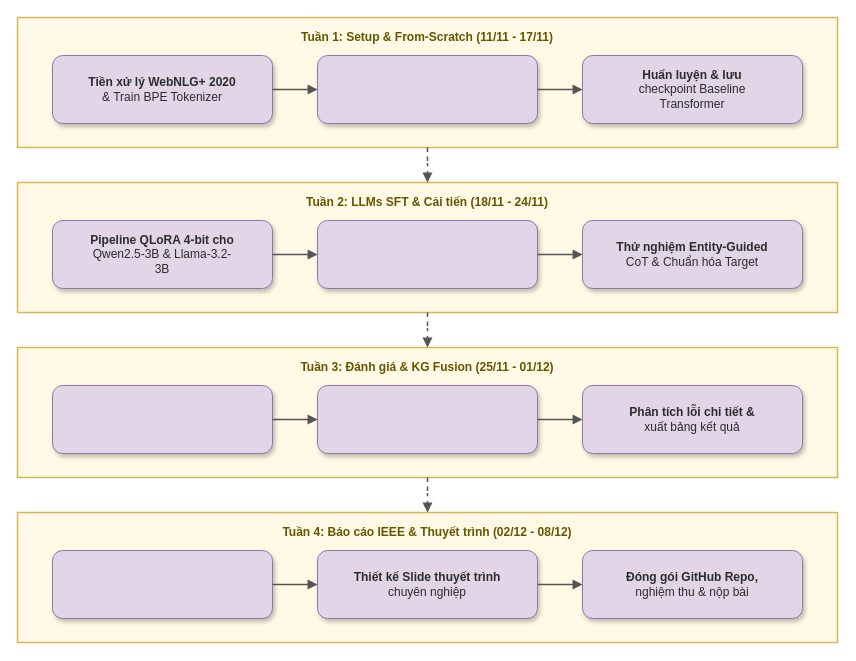
Some shapes in this 856 by 661 pixel diagram are drawn without their labels. Each missing label, with the centre of its shape:
Chạy bộ metric Micro/Macro F1, Exact Match: pixel 163 420
Cải tiến From-Scratch (Pre- LN, Weight Tying): pixel 428 256
Lập trình Core Transformer (Attn, FFN, Masks): pixel 428 90
Module hợp nhất đồ thị tri thức (KG Construction): pixel 428 420
Viết báo cáo IEEE LaTeX (>= 6 trang Tiếng Anh): pixel 163 586
